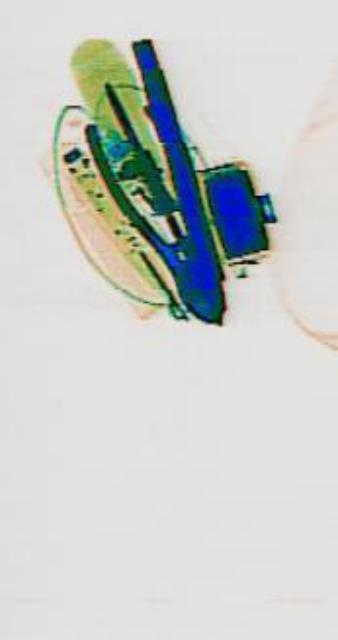Pliers: (73, 24, 253, 366)
